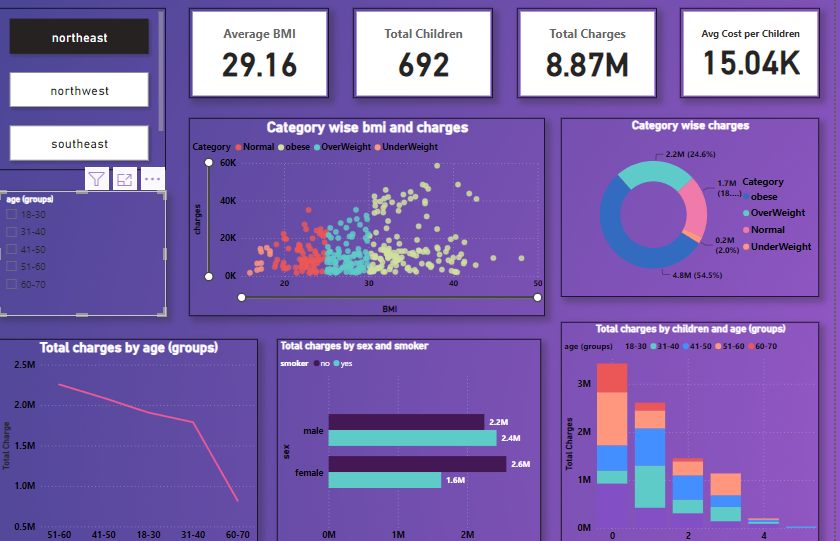

The page's visual inventory and layout, read from the dashboard file:
{"tool":"powerbi","page":{"name":"Page 1","canvas":[1440,1068],"ordinal":0},"visuals":[{"type":"cardVisual","fields":{"Data":["Avg(medical_insurance.bmi)"]},"box":[364.7,123.7,234.4,149.8],"z":0},{"type":"cardVisual","fields":{"Data":["Sum(medical_insurance.children)"]},"box":[638.3,123.3,233.3,150],"z":1},{"type":"cardVisual","fields":{"Data":["Sum(medical_insurance.charges)"]},"box":[911.7,123.3,233,150],"z":2},{"type":"advancedSlicerVisual","fields":{"Values":["medical_insurance.region"]},"box":[48.3,123.3,278.3,270],"z":4},{"type":"textbox","box":[0,0,1440,88.3],"z":6},{"type":"cardVisual","fields":{"Data":["medical_insurance.Avg Cost by Children"]},"box":[1183.3,123.3,233,150],"z":7},{"type":"slicer","fields":{"Values":["medical_insurance.age (groups)"]},"box":[46.7,428.3,280,208.3],"z":8},{"type":"clusteredBarChart","title":"Total charges by sex and smoker","fields":{"Y":["Sum(medical_insurance.charges)"],"Series":["medical_insurance.smoker"],"Category":["medical_insurance.sex"]},"box":[511.7,675,440,361.7],"z":9},{"type":"donutChart","title":"Category wise charges","fields":{"Y":["Sum(medical_insurance.charges)"],"Category":["medical_insurance.Category"]},"box":[985,306.7,430,298.3],"z":10},{"type":"scatterChart","title":"Category wise bmi and charges","fields":{"X":["medical_insurance.bmi"],"Y":["medical_insurance.charges"],"Series":["medical_insurance.Category"]},"box":[365,306.7,593.3,330],"z":11},{"type":"columnChart","title":"Total charges by children and age (groups)","fields":{"Category":["medical_insurance.children"],"Y":["Sum(medical_insurance.charges)"],"Series":["medical_insurance.age (groups)"]},"box":[985,646.7,430,390],"z":12},{"type":"lineChart","title":"Total charges by age (groups)","fields":{"Category":["medical_insurance.age (groups)"],"Y":["Sum(medical_insurance.charges)"]},"box":[46.7,675,433.3,361.7],"z":13}]}

Visuals, with their boxes on the page's 1440x1068 design canvas (x1, y1, x2, y2). These are canvas units, not pixel positions in the 840x541 screenshot, which may show the page scaled, cropped or inside an application window:
cardVisual - Avg(medical_insurance.bmi): left=365, top=124, right=599, bottom=274
cardVisual - Sum(medical_insurance.children): left=638, top=123, right=872, bottom=273
cardVisual - Sum(medical_insurance.charges): left=912, top=123, right=1145, bottom=273
advancedSlicerVisual - medical_insurance.region: left=48, top=123, right=327, bottom=393
textbox: left=0, top=0, right=1440, bottom=88
cardVisual - medical_insurance.Avg Cost by Children: left=1183, top=123, right=1416, bottom=273
slicer - medical_insurance.age (groups): left=47, top=428, right=327, bottom=637
"Total charges by sex and smoker" clusteredBarChart: left=512, top=675, right=952, bottom=1037
"Category wise charges" donutChart: left=985, top=307, right=1415, bottom=605
"Category wise bmi and charges" scatterChart: left=365, top=307, right=958, bottom=637
"Total charges by children and age (groups)" columnChart: left=985, top=647, right=1415, bottom=1037
"Total charges by age (groups)" lineChart: left=47, top=675, right=480, bottom=1037
